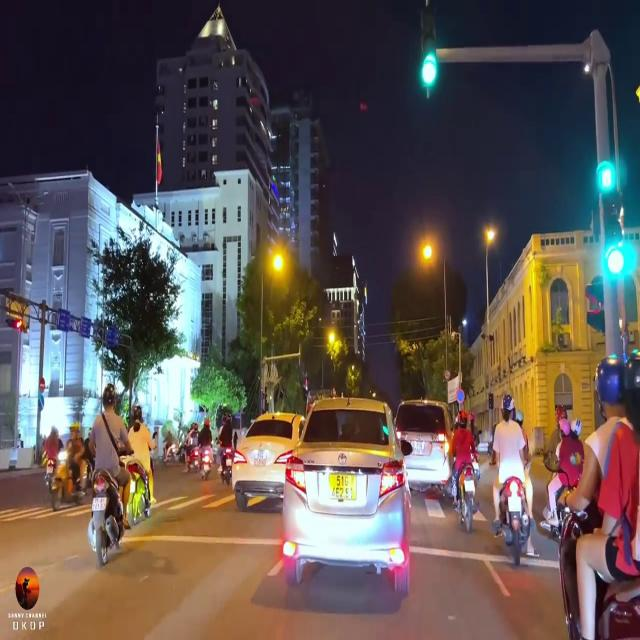bien_vang: (329, 473, 359, 501)
